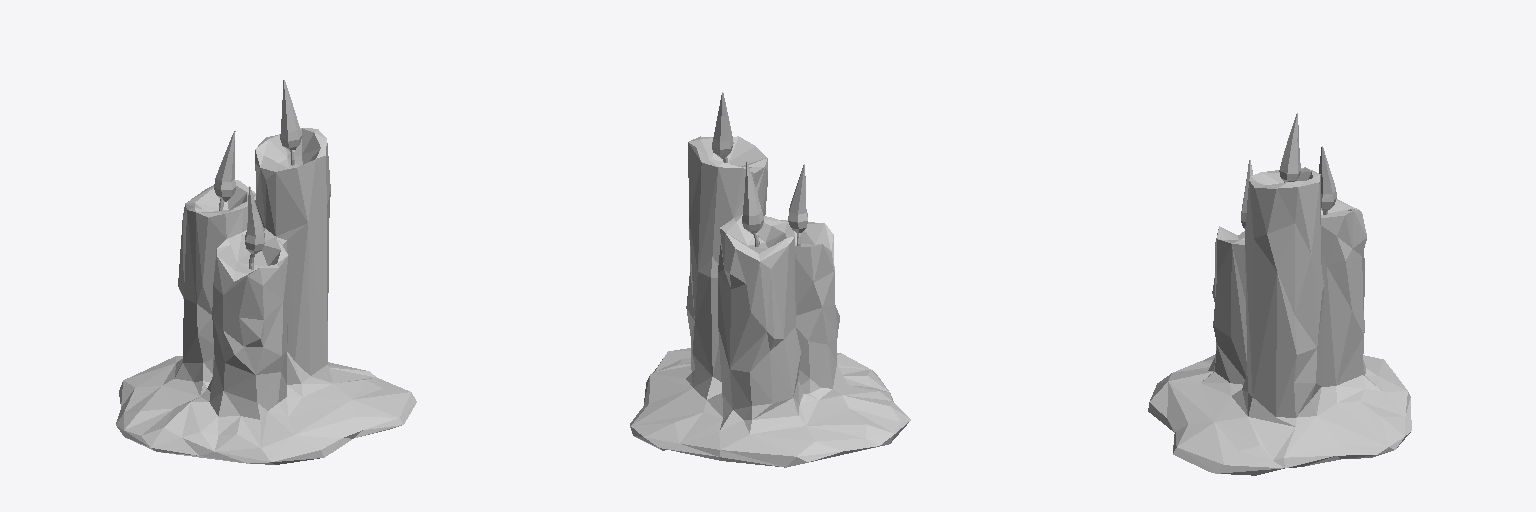
Rendered from candle6.obj.
3 renders of one model, left to right at view 1: azimuth 30°, elevation 25°; view 2: azimuth 150°, elevation 25°; view 3: azimuth 270°, elevation 25°, orthographic.
Visible parts, largest first — view 1: Object003, candleflame003, candleflame002, candleflame001; view 2: Object003, candleflame002, candleflame003, candleflame001; view 3: Object003, candleflame003, candleflame002.
Part boxes in pixels (bbox=[...]): Object003: bbox=[116, 128, 416, 464]; candleflame003: bbox=[280, 80, 301, 150]; candleflame002: bbox=[214, 131, 235, 201]; candleflame001: bbox=[245, 186, 264, 253]; Object003: bbox=[630, 136, 910, 467]; candleflame002: bbox=[742, 162, 763, 234]; candleflame003: bbox=[712, 92, 733, 158]; candleflame001: bbox=[788, 164, 807, 232]; Object003: bbox=[1148, 167, 1411, 475]; candleflame003: bbox=[1279, 113, 1300, 181]; candleflame002: bbox=[1319, 146, 1336, 211].
Bounding box in the file's own units: 1.05 × 1.24 × 0.9231.